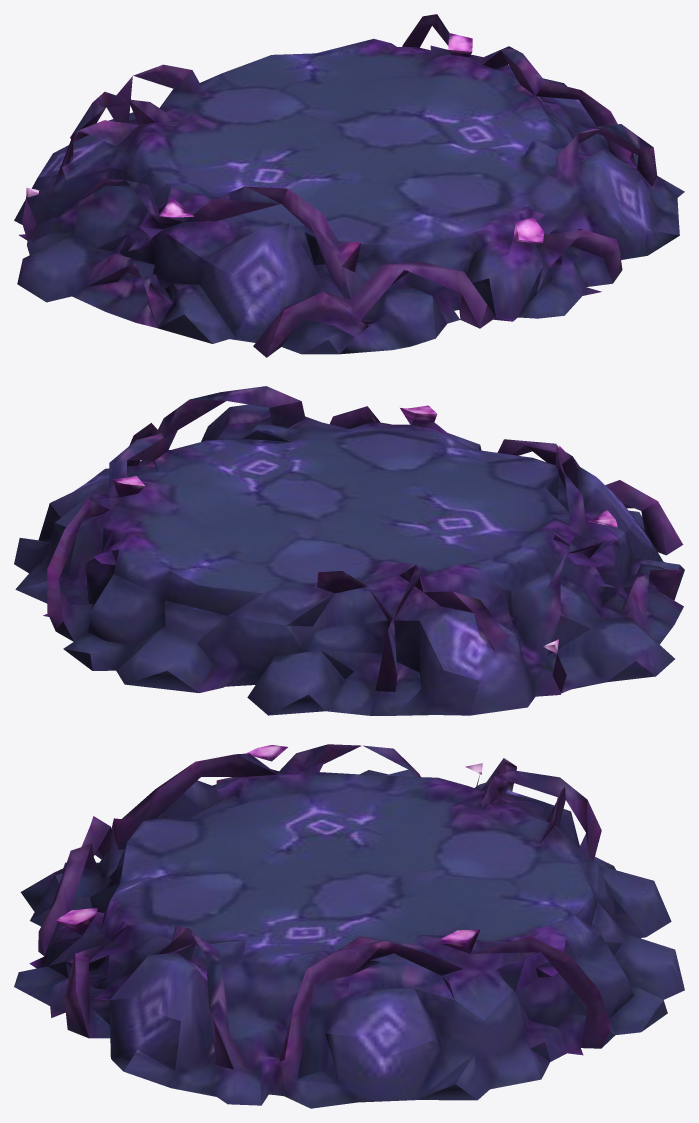
File: d_abimes_butte.glb
3 renders of one model, top to bottom at view 1: azimuth 30°, elevation 25°; view 2: azimuth 150°, elevation 25°; view 3: azimuth 270°, elevation 25°, orthographic. The views are drawn at different scales.
Visible parts, largest first — view 1: geometry_0; view 2: geometry_0; view 3: geometry_0.
Part boxes in pixels (bbox=[...]): geometry_0: bbox=[14, 14, 684, 357]; geometry_0: bbox=[14, 386, 684, 715]; geometry_0: bbox=[14, 744, 684, 1108].
Size of the model in its own units: 0.998 by 0.1872 by 0.8893.
Materials: 1 (1 with a texture image).
